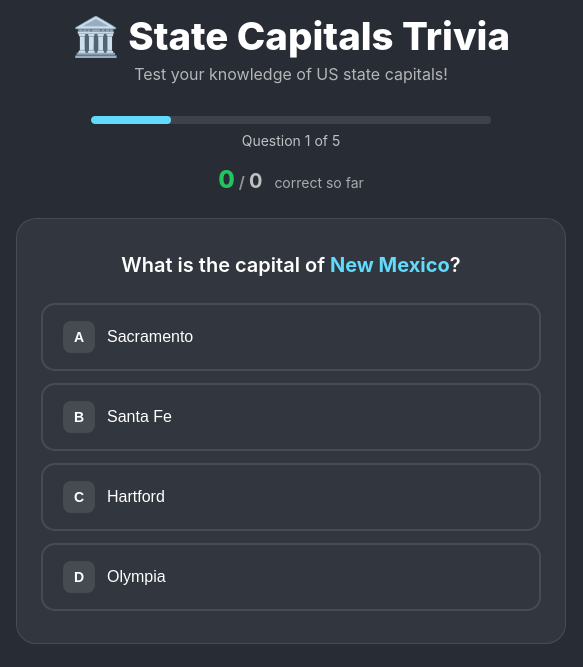
it: StateCapitalsPage – interactions › disables all choices after selecting an answer
Click the button with aria-label "Answer option:" at (79, 337), box [41,303,541,371]
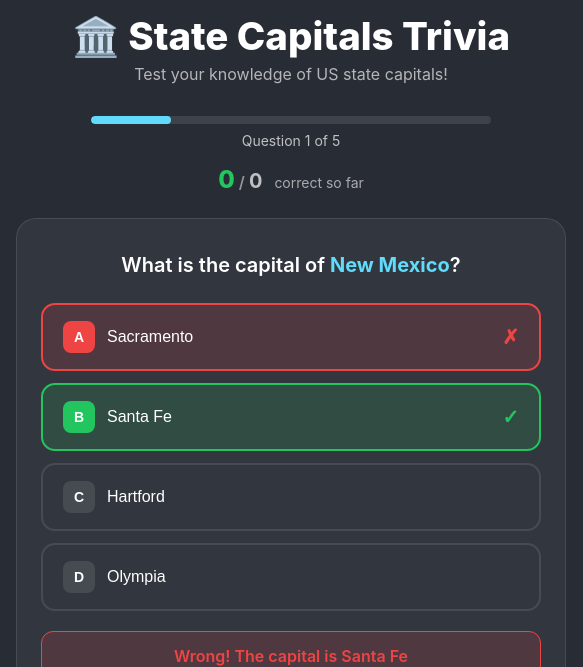
Expected: the button with aria-label "Answer option:" is disabled, [41,303,541,371]
